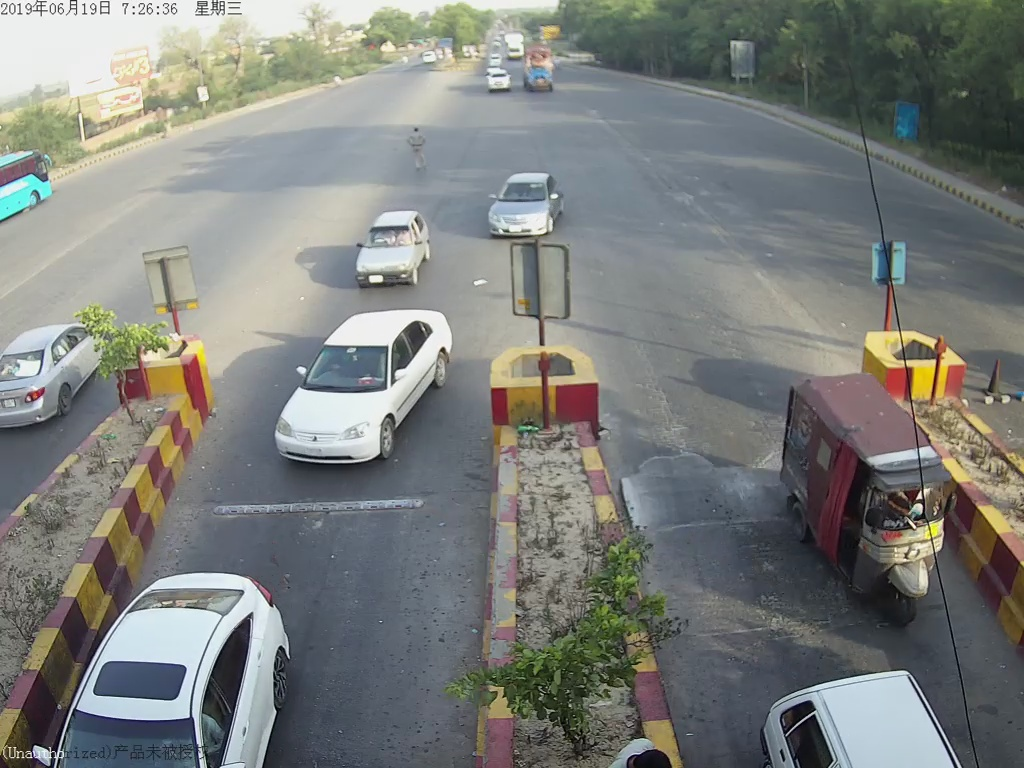Cat-1: (271, 303, 460, 471), (346, 203, 433, 291), (479, 167, 567, 243)
